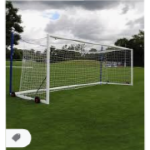goals: (16, 33, 136, 108)
